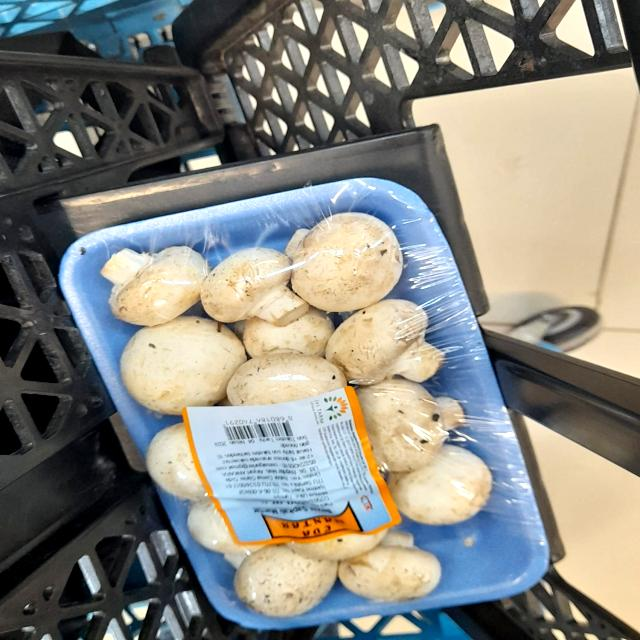mushroom: (283, 207, 417, 318), (317, 289, 454, 386), (112, 315, 238, 420), (192, 239, 323, 330), (88, 235, 211, 323)
